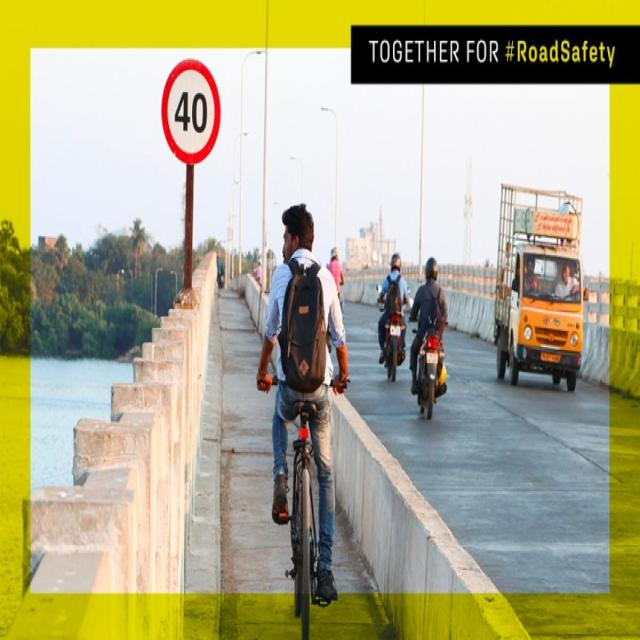bicycle: (256, 202, 348, 637)
motorcycle: (410, 258, 448, 418), (376, 253, 408, 379)
truck: (494, 184, 589, 391)
